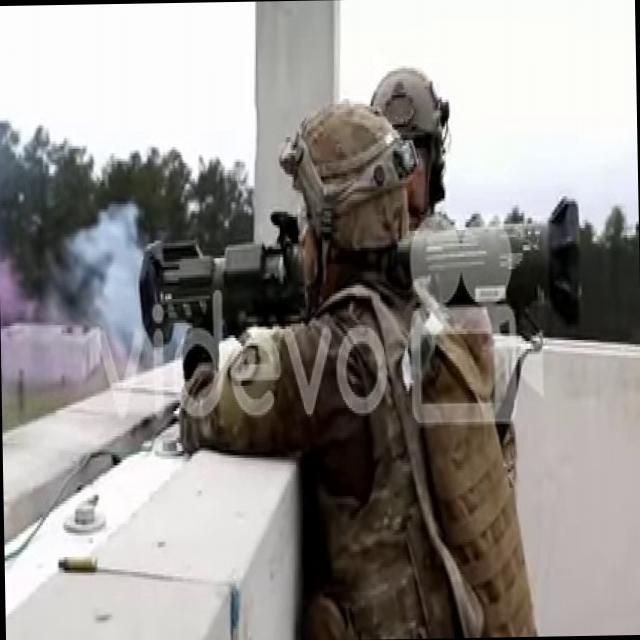rocket: (138, 198, 580, 350)
